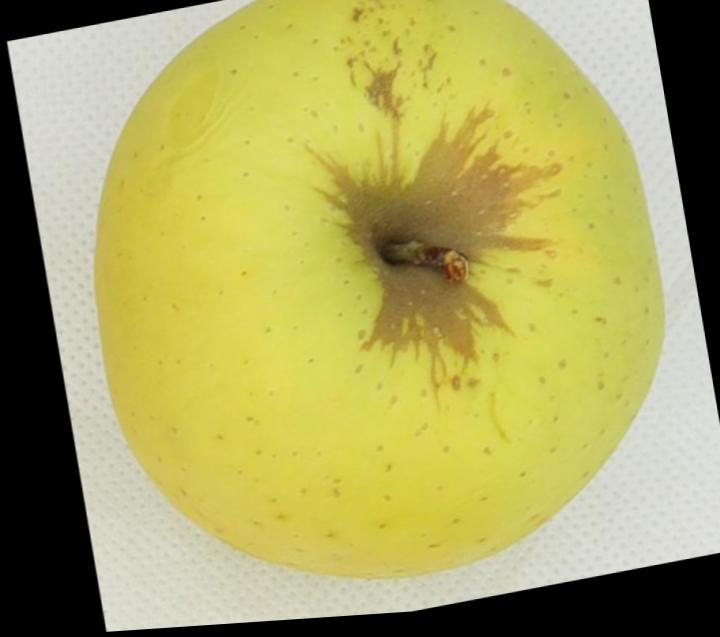apple: (96, 0, 664, 575)
bruise_discoloration: (307, 59, 563, 394)
